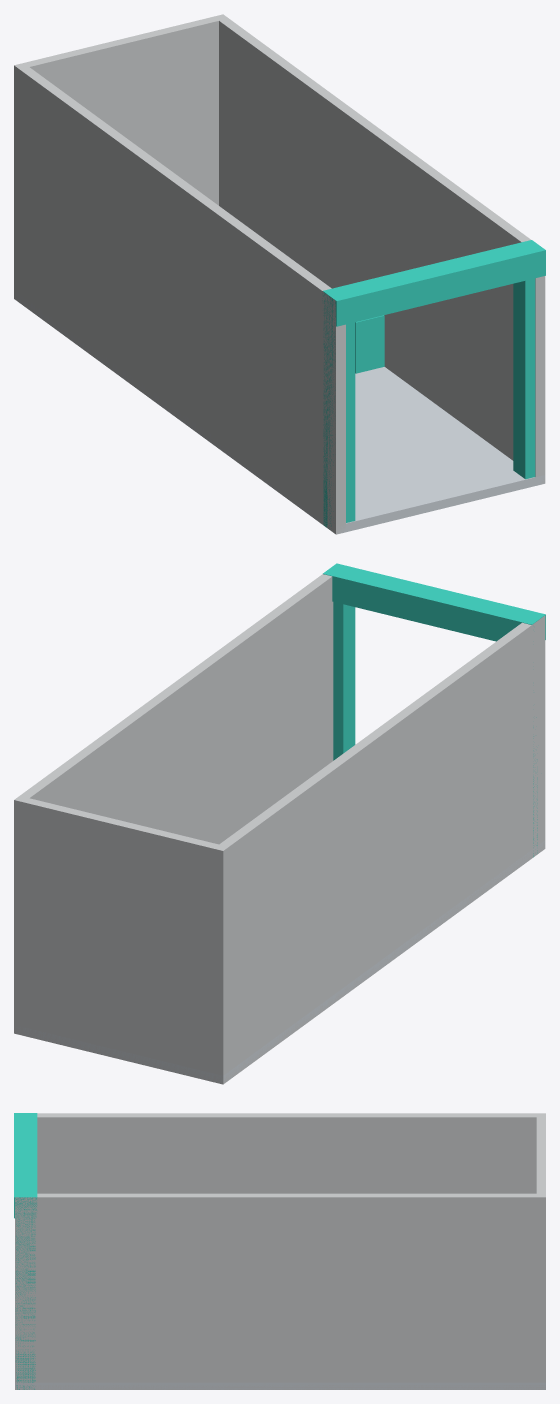
3 renders of one model, top to bottom at view 1: azimuth 30°, elevation 25°; view 2: azimuth 150°, elevation 25°; view 3: azimuth 270°, elevation 25°, orthographic. The views are drawn at different scales.
Visible parts, largest first — view 1: Exhibition Booth Concept; view 2: Exhibition Booth Concept; view 3: Exhibition Booth Concept.
Boxes of the visible parts, x1=… form: Exhibition Booth Concept: x1=14, y1=14, x2=545, y2=534; Exhibition Booth Concept: x1=14, y1=563, x2=545, y2=1084; Exhibition Booth Concept: x1=14, y1=1113, x2=545, y2=1389.
Bounding box in the file's own units: 3 × 3.2 × 8.01.
